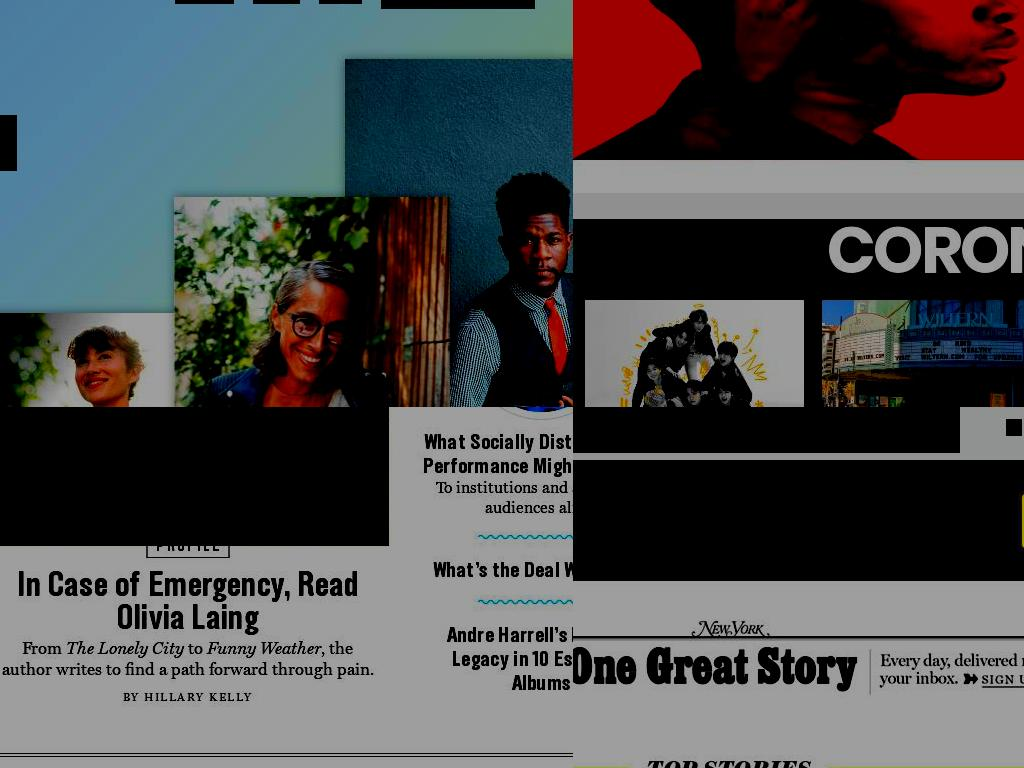button: (0, 568, 379, 635), (429, 623, 573, 696), (419, 430, 573, 479), (760, 407, 887, 453), (667, 407, 761, 453), (429, 558, 573, 583), (594, 407, 668, 453), (886, 407, 960, 453), (381, 0, 535, 9)
heading: (573, 218, 1024, 283), (16, 567, 359, 636), (446, 624, 573, 695), (423, 431, 573, 478), (432, 559, 573, 582), (646, 754, 812, 768)
iframe: (573, 0, 1024, 160), (573, 614, 1024, 704)
image: (0, 407, 389, 546), (585, 300, 804, 407), (822, 300, 1024, 407), (1006, 419, 1022, 436), (940, 424, 948, 432)
link: (573, 480, 968, 561), (175, 0, 234, 4), (253, 0, 300, 4), (319, 0, 362, 4)
text: (1, 637, 374, 680), (435, 478, 573, 519), (66, 637, 185, 659), (207, 637, 322, 659), (144, 690, 253, 704), (156, 537, 223, 554), (22, 637, 67, 659), (898, 419, 938, 436), (184, 637, 208, 659), (122, 690, 145, 704)
